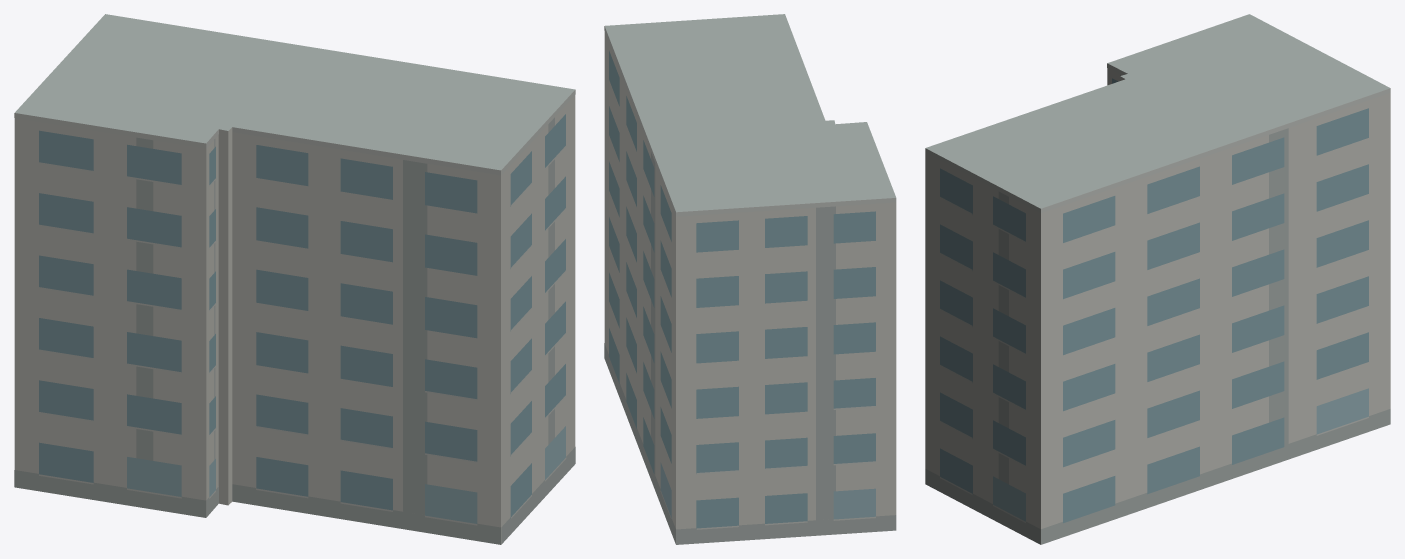
File: survey-upis-32729185.glb
3 views of the same model, side by side, from view 1: azimuth 30°, elevation 25°; view 2: azimuth 150°, elevation 25°; view 3: azimuth 270°, elevation 25° (orthographic). The views are drawn at different scales.
Parts seen in each view (by area): view 1: survey-upis-32729185.tmp; view 2: survey-upis-32729185.tmp; view 3: survey-upis-32729185.tmp.
Boxes of the visible parts, bbox=[...] form: survey-upis-32729185.tmp: bbox=[14, 14, 575, 544]; survey-upis-32729185.tmp: bbox=[604, 14, 896, 544]; survey-upis-32729185.tmp: bbox=[925, 14, 1390, 544].
Size of the model in its own units: 21.63 by 17.4 by 21.84.
